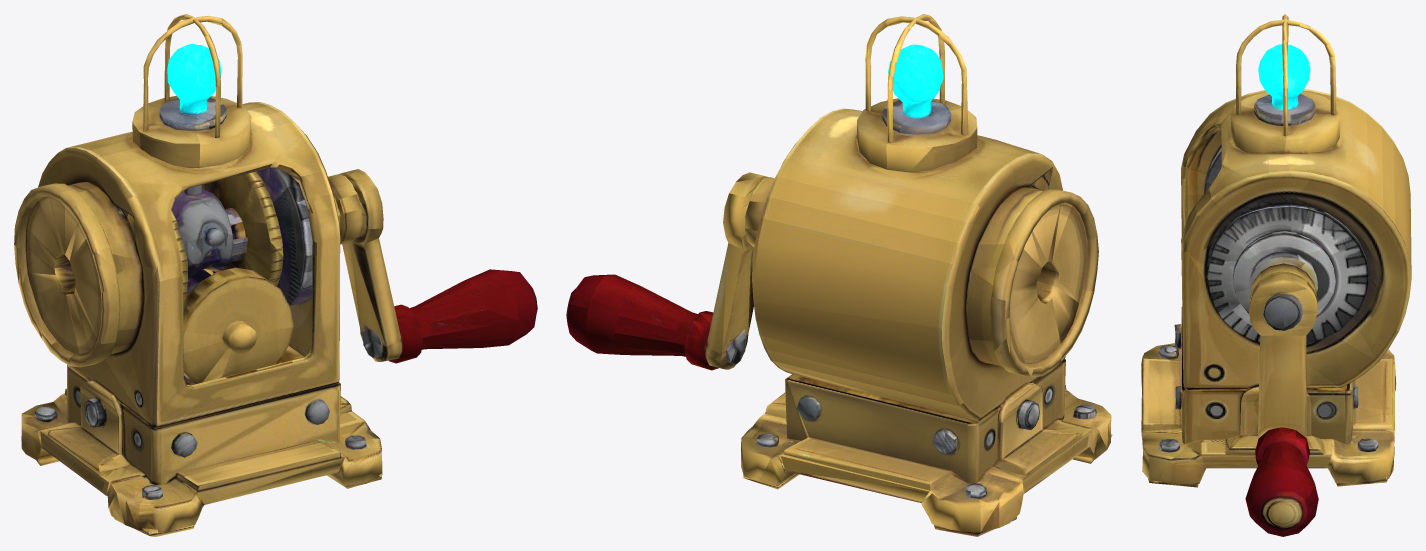
File: dynamo.glb
3 renders of one model, left to right at view 1: azimuth 30°, elevation 25°; view 2: azimuth 150°, elevation 25°; view 3: azimuth 270°, elevation 25°, orthographic. The views are drawn at different scales.
Bounding box in the file's own units: 1 × 0.8926 × 0.5312.
Materials: 1 (1 with a texture image).
